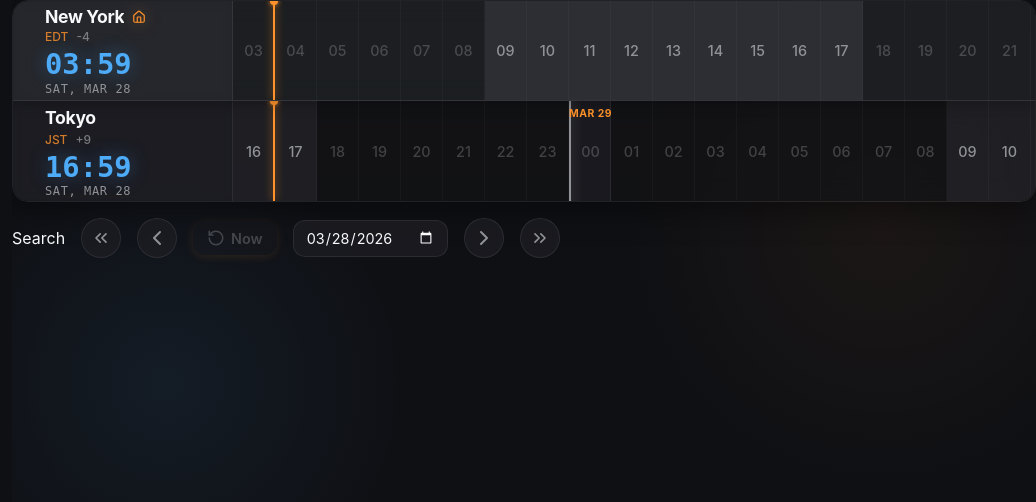
Test: TimeGrid › Now button becomes enabled after navigating
Click the button titled "+1 Hour": coordinates (484, 238) [464,218,504,258]
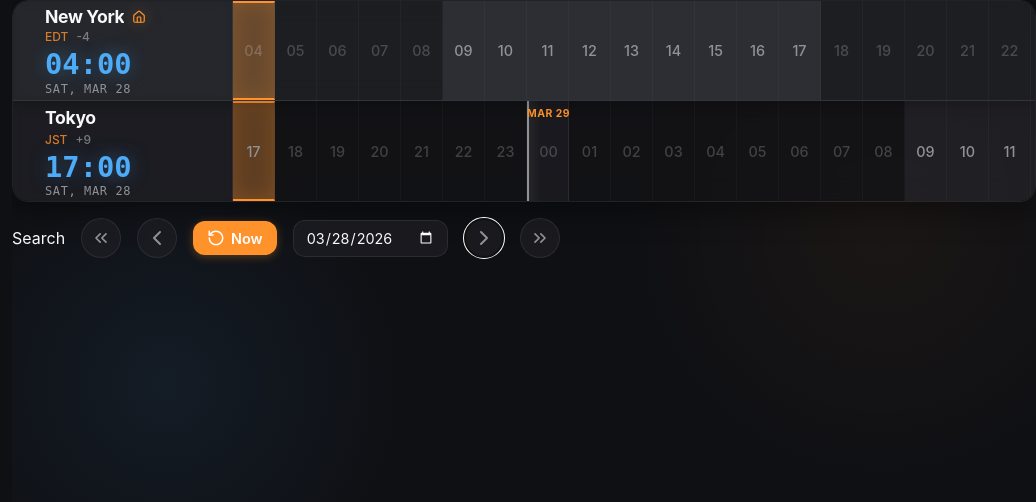
Expected: the button titled "Reset to current time" is enabled, [193,221,277,255]
